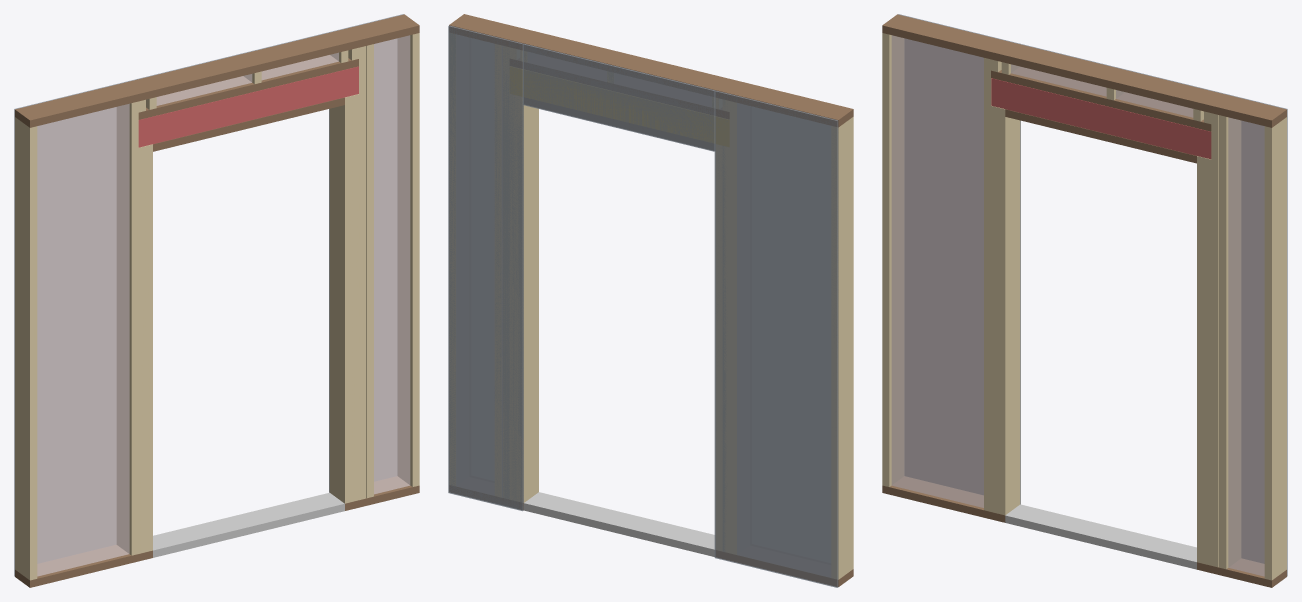
3 views of the same model, side by side, from view 1: azimuth 30°, elevation 25°; view 2: azimuth 150°, elevation 25°; view 3: azimuth 330°, elevation 25° (orthographic).
Parts seen in each view (by area): view 1: EX12 GF; view 2: EX12 GF; view 3: EX12 GF.
Boxes of the visible parts, x1,y1,x2,y2 form: EX12 GF: [14, 14, 419, 587]; EX12 GF: [448, 14, 853, 587]; EX12 GF: [882, 14, 1287, 587].
Size of the model in its own units: 2.08 by 2.39 by 0.149.
